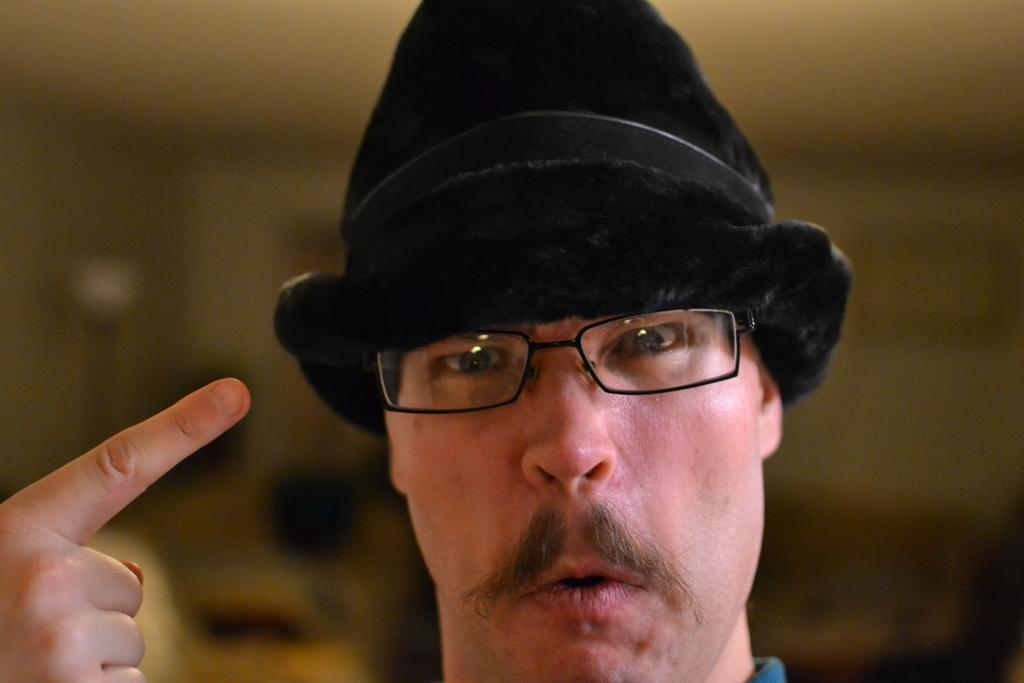Hat: (270, 0, 854, 440)
